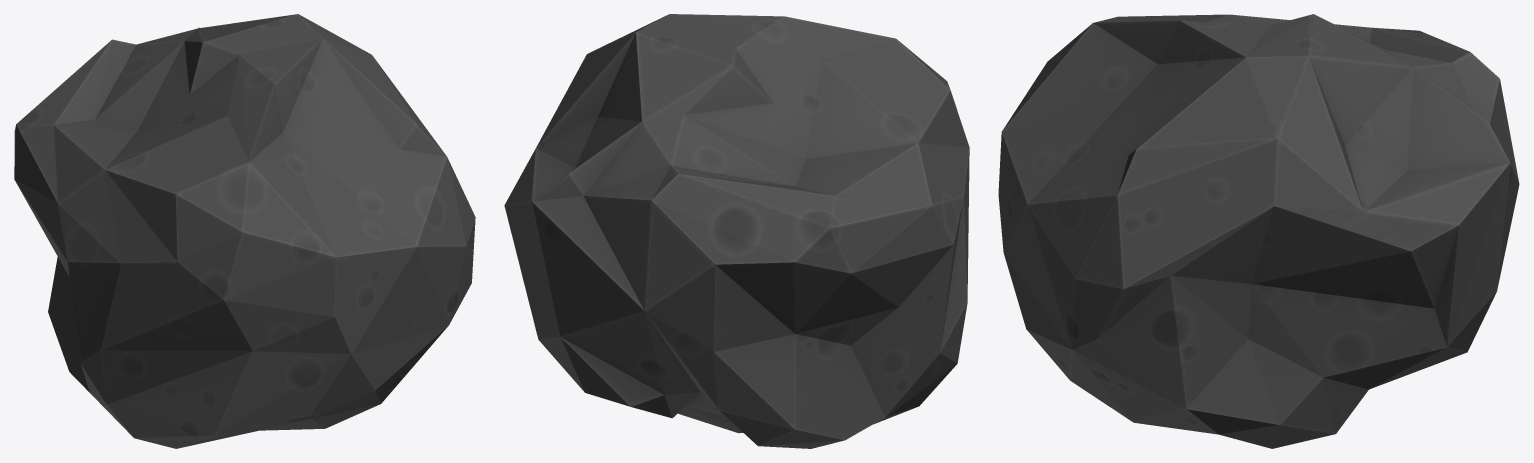
File: rock_12.obj
3 views of the same model, side by side, from view 1: azimuth 30°, elevation 25°; view 2: azimuth 150°, elevation 25°; view 3: azimuth 270°, elevation 25° (orthographic). The views are drawn at different scales.
Parts seen in each view (by area): view 1: Asteroids_Mesh.012; view 2: Asteroids_Mesh.012; view 3: Asteroids_Mesh.012.
Boxes of the visible parts, box(x1,y1,x2,y2) form: Asteroids_Mesh.012: box(14, 14, 475, 448); Asteroids_Mesh.012: box(504, 14, 969, 448); Asteroids_Mesh.012: box(998, 14, 1519, 448).
Size of the model in its own units: 5.77 by 5.54 by 6.56.
